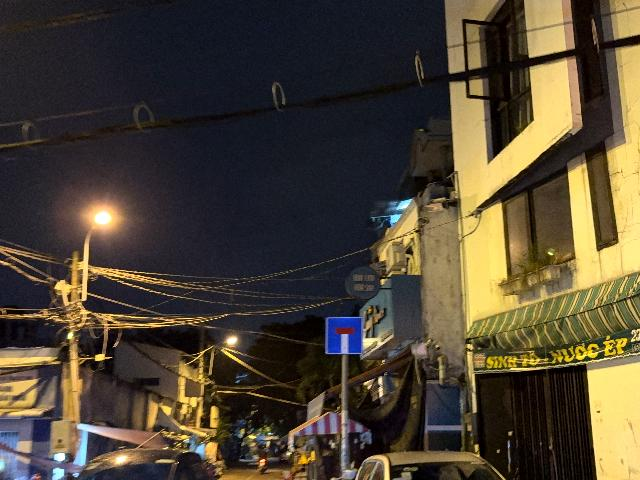duong-cut: (325, 317, 362, 355)
